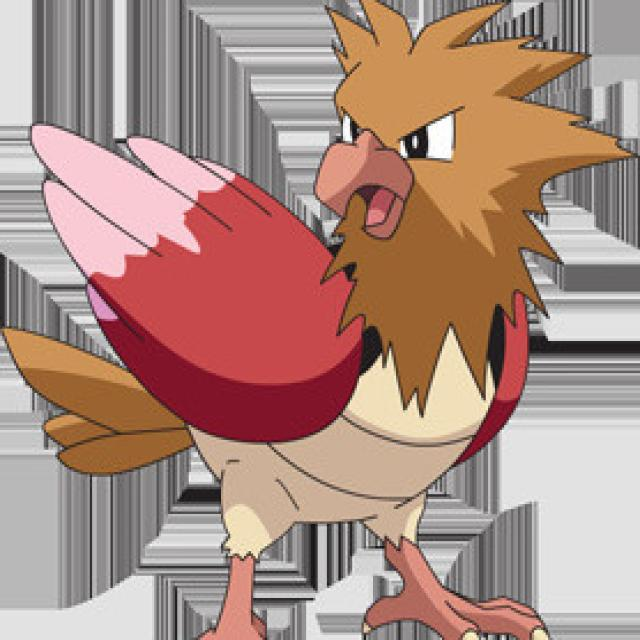Spearow: (84, 2, 550, 624)
